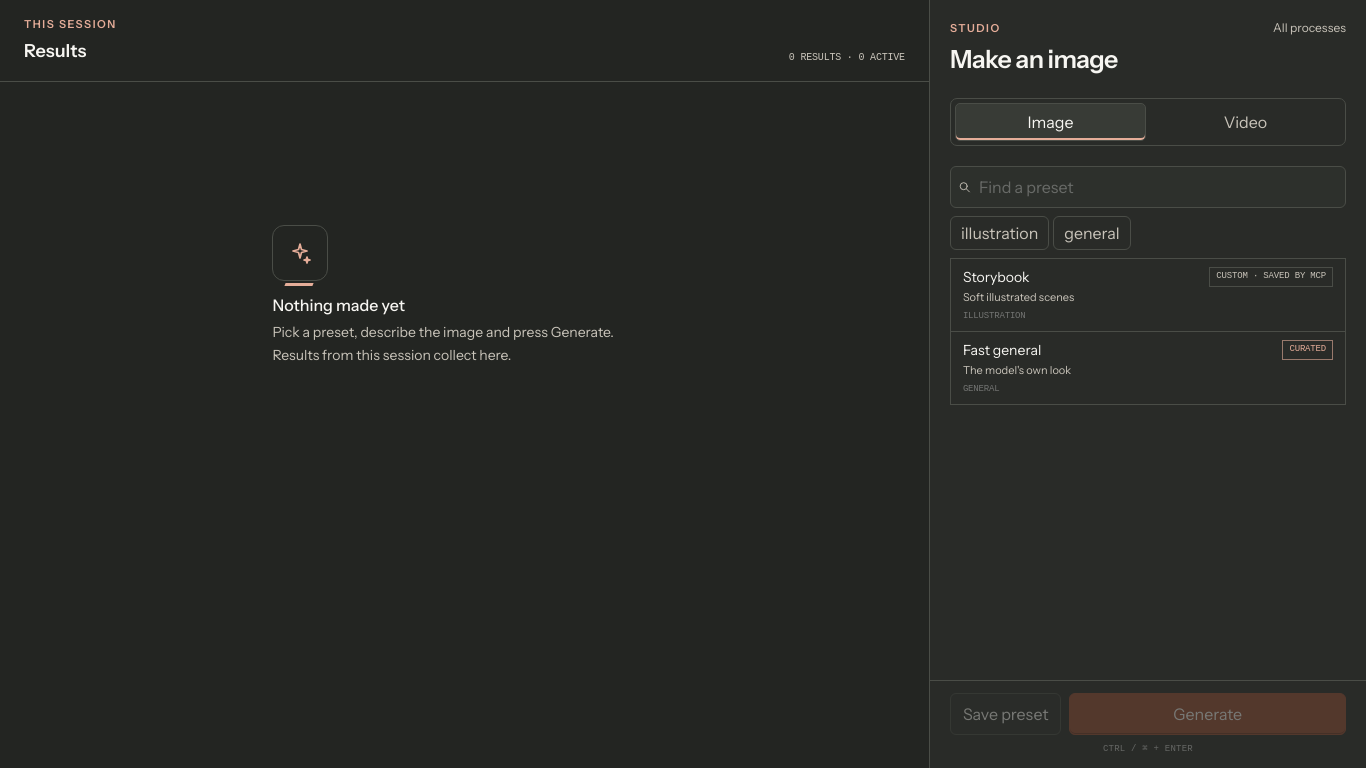
Test: the Studio › a blocked plan cannot be generated, and says why
Click the option "Storybook".
click(996, 277)  # box x1=951 y1=259 x2=1345 y2=332
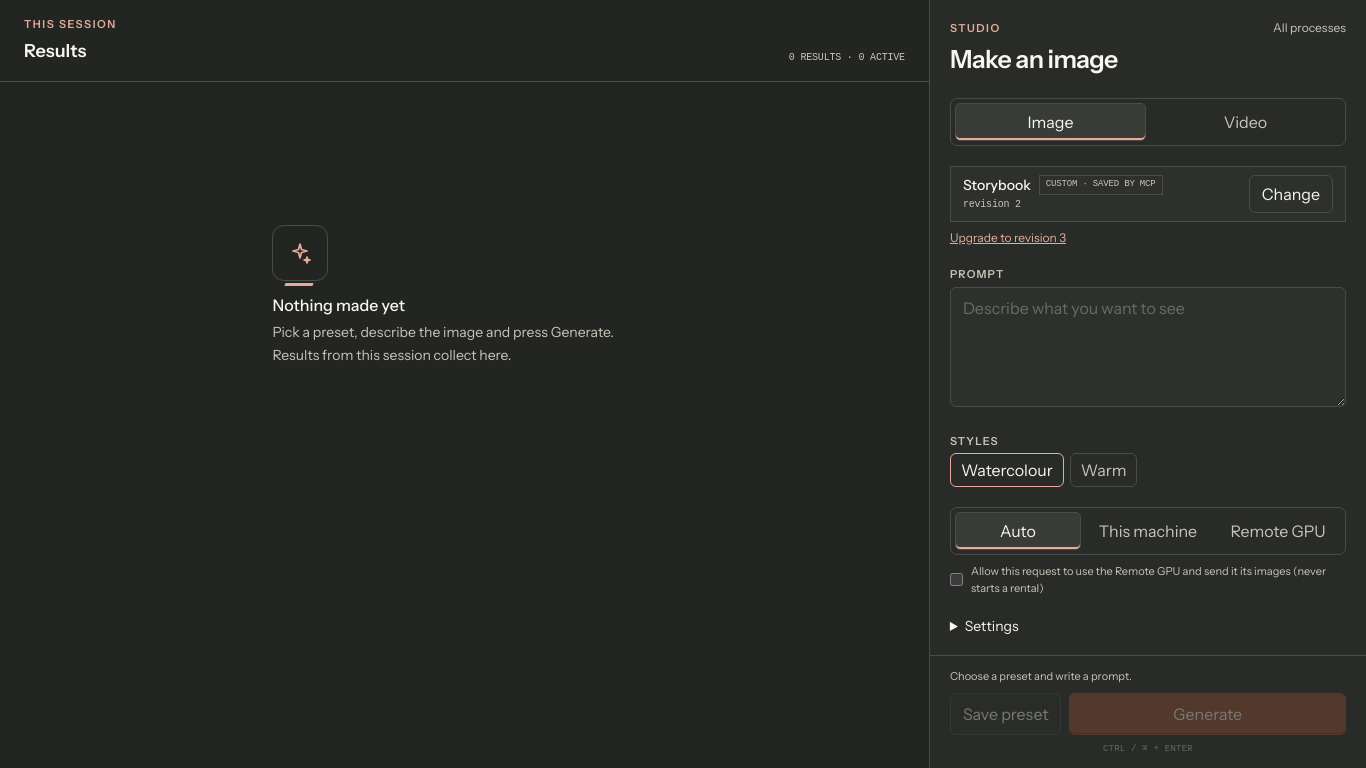
Type "x" into the text box labelled "Prompt".
click(1148, 346); type("x")  # box x1=950 y1=286 x2=1346 y2=406
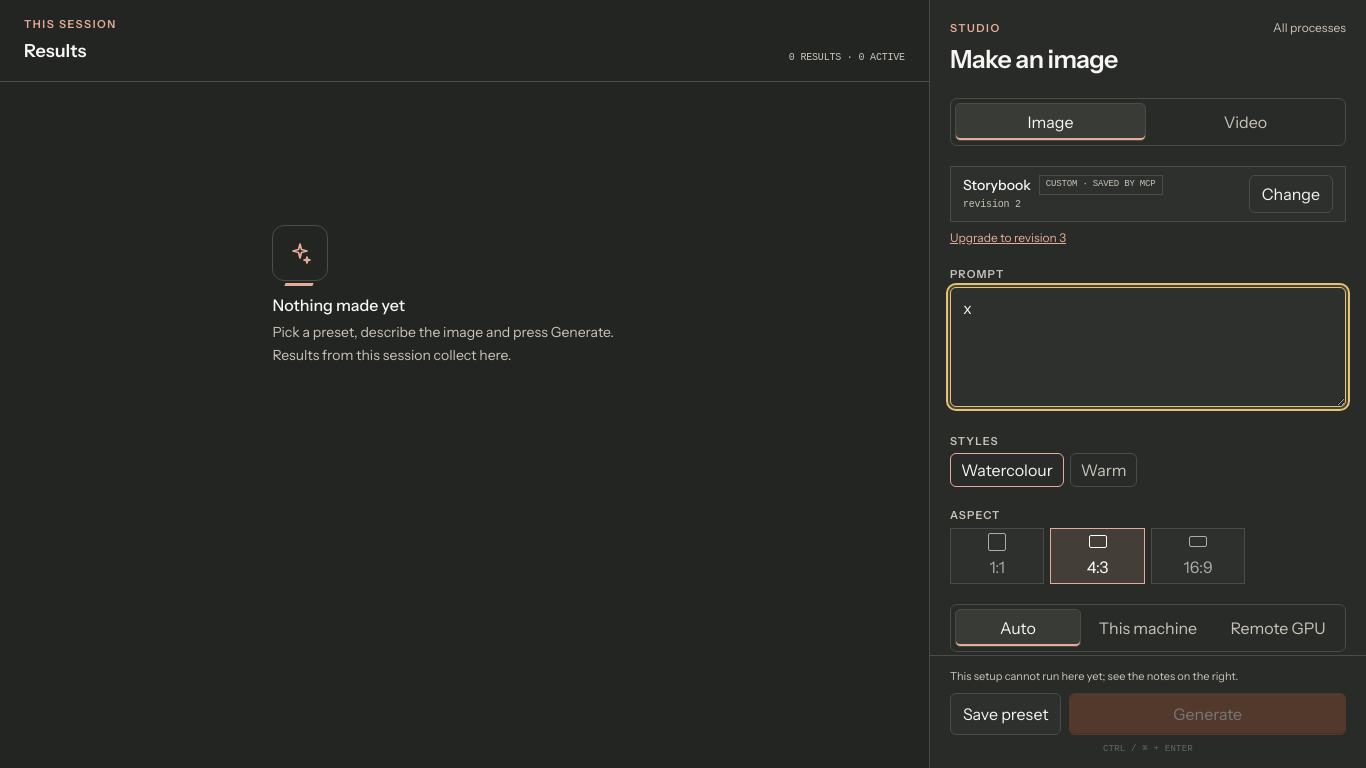
Expected: the button "Generate" is disabled, x1=1069 y1=692 x2=1346 y2=734
Result: the text with test id "submit-blocked" shows "cannot run here yet" at x1=950 y1=669 x2=1238 y2=683
